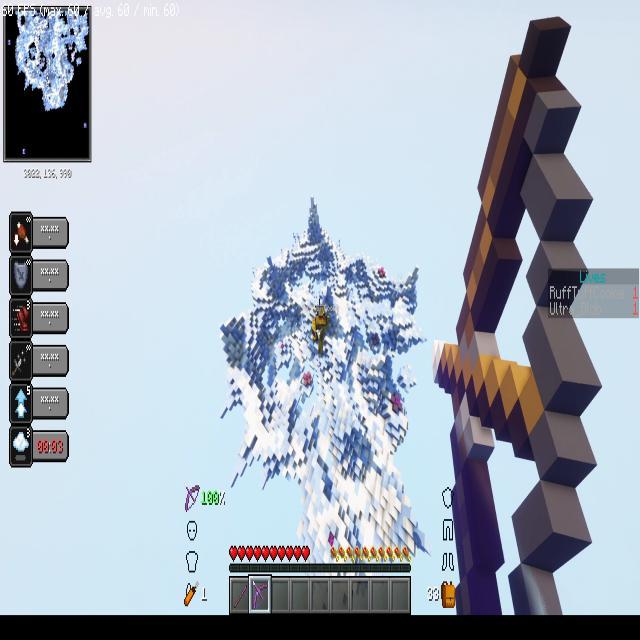Player: (310, 302, 334, 357)
